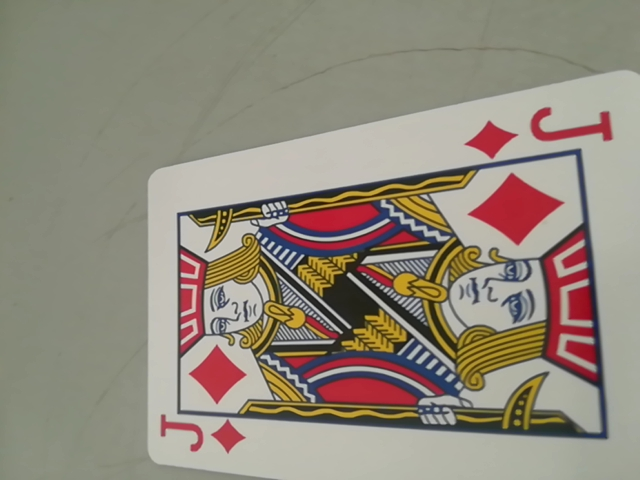fk j: (465, 95, 625, 162), (154, 409, 246, 464)
